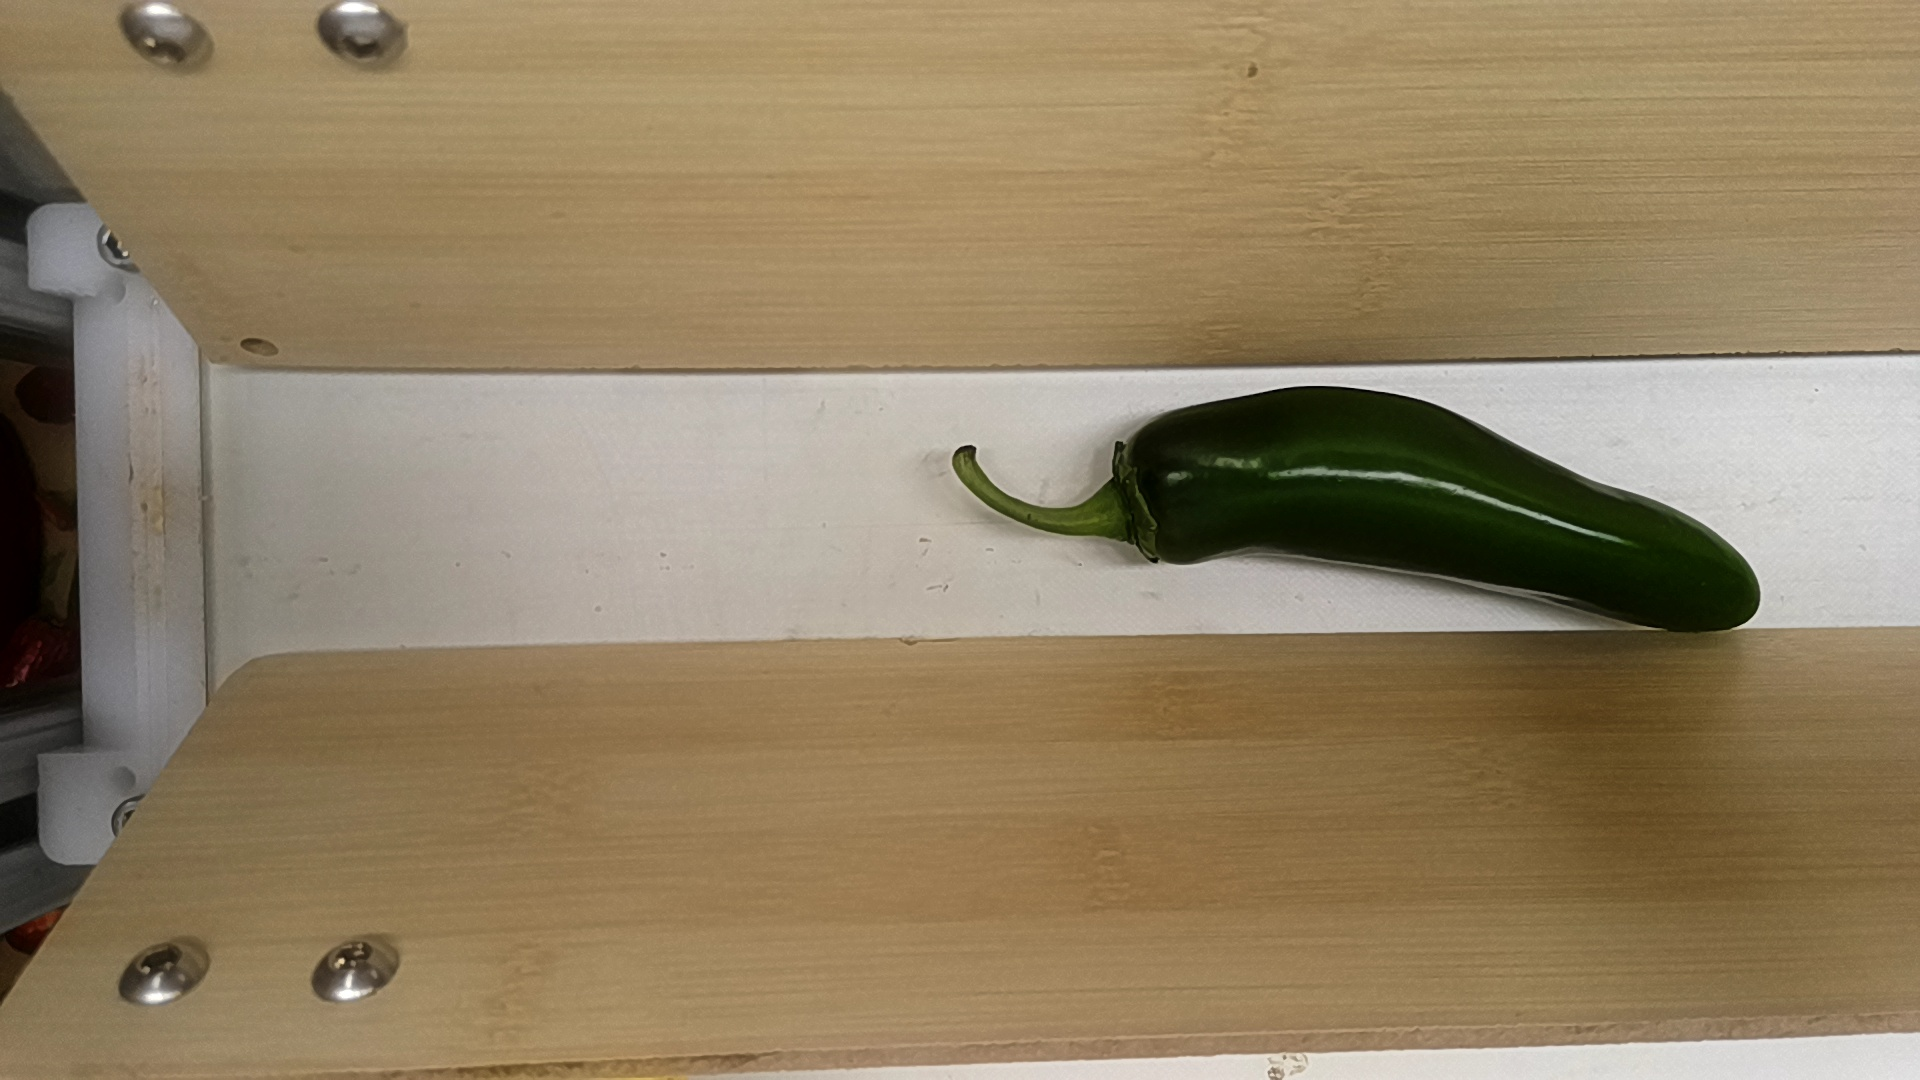Cut Point: (1102, 401, 1182, 580)
